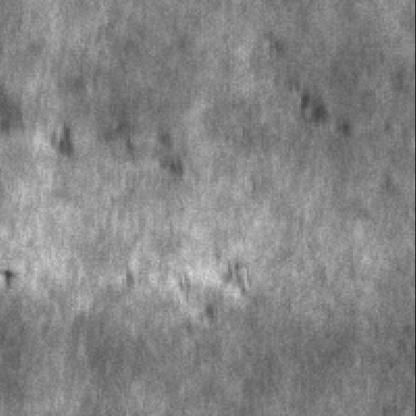rolled-in_scale: (122, 235, 245, 325), (40, 106, 187, 177), (266, 38, 358, 142)
